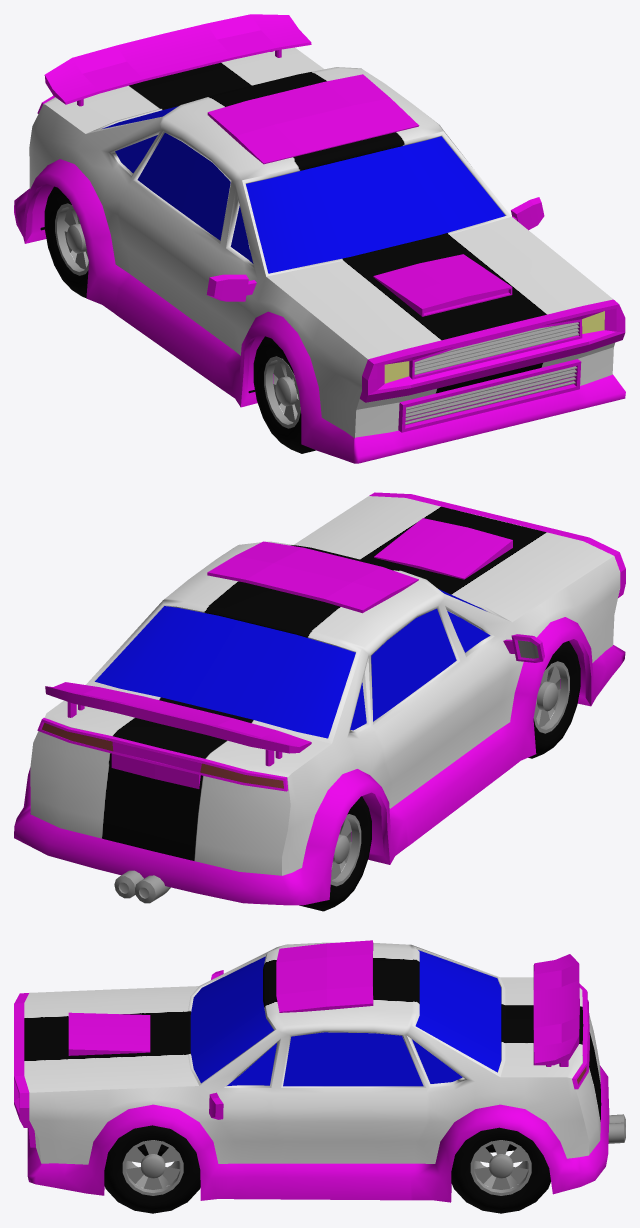
File: Muscle Evolution3 Pink LineBlackWhite Blue LightGrey.glb
The picture shows the model from 3 angles, top to bottom: view 1: azimuth 30°, elevation 25°; view 2: azimuth 150°, elevation 25°; view 3: azimuth 270°, elevation 25°; orthographic projection. The views are drawn at different scales.
Parts seen in each view (by area): view 1: evo3_body1_f1_dupl, evo3_sill3_f1_dupl, evo3_frontGlass_f1_dupl, evo3_rooftop3_f1_dupl, evo3_spoiler3_f1_dupl, evo3_frontBlockGrid3_f1_dupl, evo3_glasseBigR_f1_dupl, evo3_airtrap_front4_f1_dupl, evo3_blockgrid3_f1_dupl, evo3_gridfrontbot3_f1_dupl, evo3_gridfrontup3_f1_dupl, evo3_tire_rf1_f1_dupl (+6 smaller); view 2: evo3_body1_f1_dupl, evo3_sill3_f1_dupl, evo3_BackGlassGlass_f1_dupl, evo3_rooftop3_f1_dupl, evo3_spoiler3_f1_dupl, evo3_glasseBigR_f1_dupl, evo3_airtrap_front4_f1_dupl, evo3_blockbacklight_f1_dupl, evo3_rim_A_rf_f1_dupl, evo3_tire_rf1_f1_dupl, evo3_tire_rf_f1_dupl, evo3_frontBlockGrid3_f1_dupl (+6 smaller); view 3: evo3_body1_f1_dupl, evo3_sill3_f1_dupl, evo3_BackGlassGlass_f1_dupl, evo3_glasseBigL_f1_dupl, evo3_frontGlass_f1_dupl, evo3_rooftop3_f1_dupl, evo3_spoiler3_f1_dupl, evo3_tire_lf_f1_dupl, evo3_tire_lb_f1_dupl, evo3_airtrap_front4_f1_dupl, evo3_rim_A_lf_f1_dupl, evo3_rim_A_lb_f1_dupl (+5 smaller).
Part boxes in pixels (x1,y1,x2,y2): evo3_body1_f1_dupl: [29, 47, 614, 438]; evo3_sill3_f1_dupl: [14, 159, 625, 463]; evo3_frontGlass_f1_dupl: [246, 136, 505, 273]; evo3_rooftop3_f1_dupl: [207, 74, 419, 164]; evo3_spoiler3_f1_dupl: [44, 14, 311, 106]; evo3_frontBlockGrid3_f1_dupl: [360, 299, 625, 402]; evo3_glasseBigR_f1_dupl: [137, 133, 230, 240]; evo3_airtrap_front4_f1_dupl: [373, 254, 512, 316]; evo3_blockgrid3_f1_dupl: [398, 359, 581, 432]; evo3_gridfrontbot3_f1_dupl: [405, 366, 577, 424]; evo3_gridfrontup3_f1_dupl: [414, 322, 579, 374]; evo3_tire_rf1_f1_dupl: [253, 336, 315, 453]; evo3_body1_f1_dupl: [30, 496, 620, 875]; evo3_sill3_f1_dupl: [14, 617, 625, 905]; evo3_BackGlassGlass_f1_dupl: [95, 606, 355, 738]; evo3_rooftop3_f1_dupl: [207, 541, 418, 613]; evo3_spoiler3_f1_dupl: [45, 682, 311, 766]; evo3_glasseBigR_f1_dupl: [371, 608, 456, 721]; evo3_airtrap_front4_f1_dupl: [374, 518, 512, 579]; evo3_blockbacklight_f1_dupl: [37, 718, 288, 791]; evo3_rim_A_rf_f1_dupl: [533, 661, 569, 733]; evo3_tire_rf1_f1_dupl: [528, 641, 580, 758]; evo3_tire_rf_f1_dupl: [299, 796, 371, 911]; evo3_frontBlockGrid3_f1_dupl: [369, 492, 625, 597]; evo3_body1_f1_dupl: [24, 942, 601, 1164]; evo3_sill3_f1_dupl: [27, 1065, 609, 1202]; evo3_BackGlassGlass_f1_dupl: [415, 950, 501, 1072]; evo3_glasseBigL_f1_dupl: [283, 1032, 423, 1086]; evo3_frontGlass_f1_dupl: [190, 956, 273, 1083]; evo3_rooftop3_f1_dupl: [276, 940, 373, 1012]; evo3_spoiler3_f1_dupl: [533, 954, 579, 1066]; evo3_tire_lf_f1_dupl: [104, 1125, 200, 1213]; evo3_tire_lb_f1_dupl: [451, 1127, 550, 1213]; evo3_airtrap_front4_f1_dupl: [68, 1012, 150, 1055]; evo3_rim_A_lf_f1_dupl: [122, 1140, 183, 1195]; evo3_rim_A_lb_f1_dupl: [470, 1140, 531, 1195].
Size of the model in its own units: 177 by 116 by 335.
Materials: 8 (1 with a texture image).
